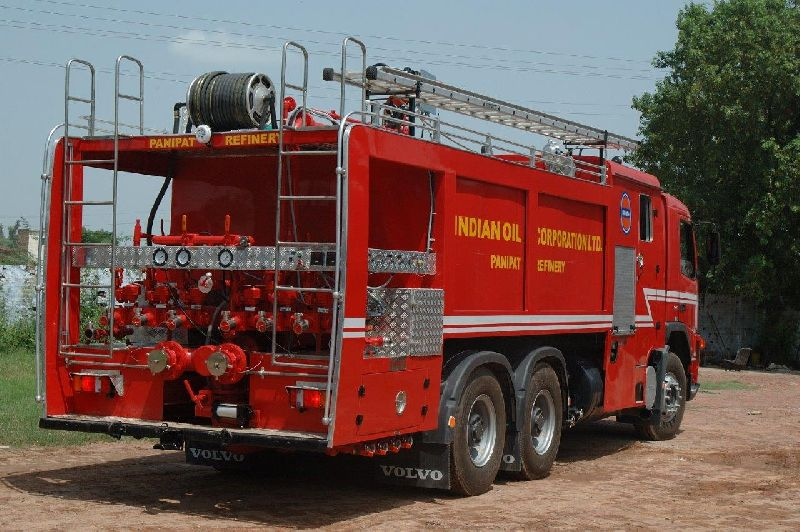fire engine: (34, 57, 705, 493)
